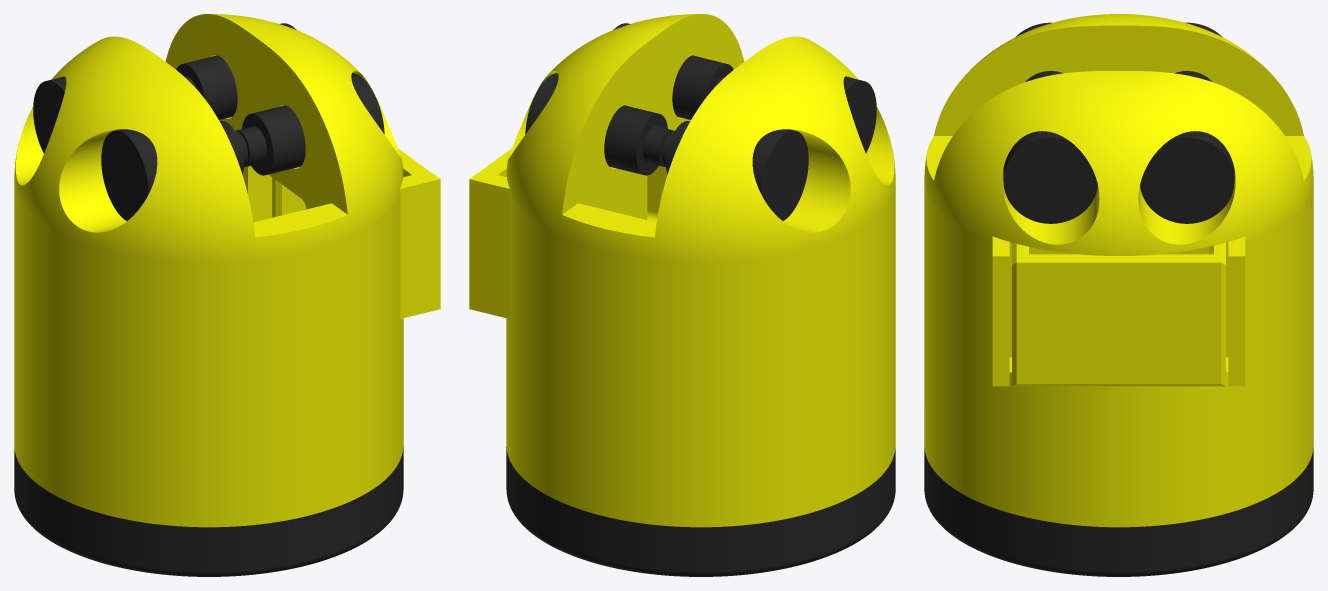
The model's file is GripperTool.dae.
3 views of the same model, side by side, from view 1: azimuth 30°, elevation 25°; view 2: azimuth 150°, elevation 25°; view 3: azimuth 270°, elevation 25° (orthographic).
Visible parts, largest first — view 1: GripperTool; view 2: GripperTool; view 3: GripperTool.
Part boxes in pixels (bbox=[...]): GripperTool: bbox=[14, 14, 440, 576]; GripperTool: bbox=[469, 14, 895, 576]; GripperTool: bbox=[924, 14, 1313, 576].
Bounding box in the file's own units: 0.081 × 0.08 × 0.102.
